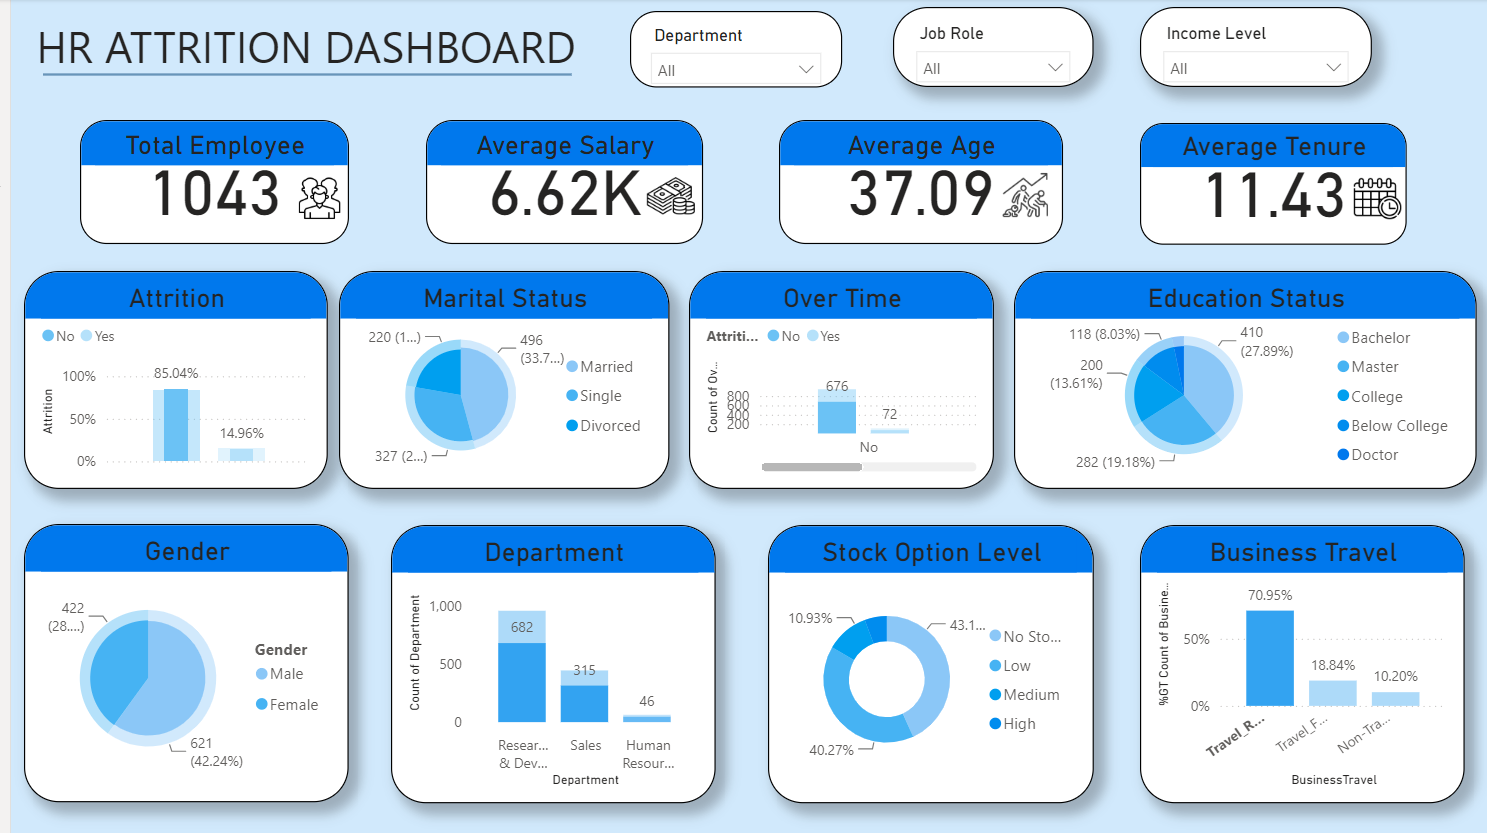

The dashboard page shown, as its layout file describes it:
{"tool":"powerbi","page":{"name":"Page 1","canvas":[1280,720],"ordinal":0},"visuals":[{"type":"clusteredColumnChart","title":"Attrition","fields":{"Series":["HR-Employee-Attrition.Attrition"],"Y":["CountNonNull(HR-Employee-Attrition.Attrition)"]},"box":[10.9,234.5,262,188.2],"z":0},{"type":"pieChart","title":"Gender","fields":{"Category":["HR-Employee-Attrition.Gender"],"Y":["CountNonNull(HR-Employee-Attrition.Gender)"]},"box":[10.9,452.7,280,240],"z":1000},{"type":"pieChart","title":"Marital Status","fields":{"Category":["HR-Employee-Attrition.MaritalStatus"],"Y":["CountNonNull(HR-Employee-Attrition.MaritalStatus)"]},"box":[283,235,285,188],"z":2000},{"type":"clusteredColumnChart","title":"Department","fields":{"Category":["HR-Employee-Attrition.Department"],"Y":["CountNonNull(HR-Employee-Attrition.Department)"]},"box":[328.2,453.6,280,240],"z":3000},{"type":"clusteredColumnChart","title":"Over Time","fields":{"Category":["HR-Employee-Attrition.OverTime"],"Series":["HR-Employee-Attrition.Attrition"],"Y":["CountNonNull(HR-Employee-Attrition.OverTime)"]},"box":[584.8,234.6,263.1,188],"z":4000},{"type":"donutChart","title":"Stock Option Level","fields":{"Category":["HR-Employee-Attrition.Stock Level"],"Y":["CountNonNull(HR-Employee-Attrition.Stock Level)"]},"box":[652.7,453.6,280.9,240],"z":5000},{"type":"pieChart","title":"Education Status","fields":{"Category":["HR-Employee-Attrition.Education Status"],"Y":["CountNonNull(HR-Employee-Attrition.Education Status)"]},"box":[865.5,234.5,399.1,188.2],"z":6000},{"type":"clusteredColumnChart","title":"Business Travel","fields":{"Category":["HR-Employee-Attrition.BusinessTravel"],"Y":["CountNonNull(HR-Employee-Attrition.BusinessTravel)"]},"box":[973.6,453.6,280,240],"z":7000},{"type":"card","title":"Total Employee","fields":{"Values":["CountNonNull(HR-Employee-Attrition.Age)"]},"box":[59.1,104.5,231.8,107.3],"z":8000},{"type":"card","title":"Average Salary","fields":{"Values":["Avg(HR-Employee-Attrition.MonthlyIncome)"]},"box":[358.2,104.5,239.1,107.3],"z":9000},{"type":"card","title":"Average Age","fields":{"Values":["Avg(HR-Employee-Attrition.Age)"]},"box":[662.7,104.5,244.5,107.3],"z":10000},{"type":"textbox","box":[0,10,509.1,85.5],"z":11000},{"type":"card","title":"Average Tenure","fields":{"Values":["Avg(HR-Employee-Attrition.TotalWorkingYears)"]},"box":[973.6,107.3,230,104.5],"z":12000},{"type":"slicer","fields":{"Values":["HR-Employee-Attrition.Department"]},"box":[534,10,183,66],"z":13000},{"type":"slicer","fields":{"Values":["HR-Employee-Attrition.JobRole"]},"box":[761,7,173,69],"z":14000},{"type":"slicer","fields":{"Values":["HR-Employee-Attrition.Income Level"]},"box":[974,7,200,69],"z":15000},{"type":"shape","box":[27.6,0,456.3,130.2],"z":16000},{"type":"image","box":[240.6,148.4,50.9,47.4],"z":17000},{"type":"image","box":[541.7,143.2,55.2,52.6],"z":18000},{"type":"image","box":[847.9,143.2,53.5,51.8],"z":19000},{"type":"image","box":[1153.2,146.6,50.9,50.9],"z":20000}]}

Visuals, with their boxes in screenshot pixels (x1, y1, x2, y2), scaled from the page's 1280x720 canvas onto the 1487x833 screenshot:
"Attrition" clusteredColumnChart: box(13, 271, 317, 489)
"Gender" pieChart: box(13, 524, 338, 801)
"Marital Status" pieChart: box(329, 272, 660, 489)
"Department" clusteredColumnChart: box(381, 525, 707, 802)
"Over Time" clusteredColumnChart: box(679, 271, 985, 489)
"Stock Option Level" donutChart: box(758, 525, 1085, 802)
"Education Status" pieChart: box(1005, 271, 1469, 489)
"Business Travel" clusteredColumnChart: box(1131, 525, 1456, 802)
"Total Employee" card: box(69, 121, 338, 245)
"Average Salary" card: box(416, 121, 694, 245)
"Average Age" card: box(770, 121, 1054, 245)
textbox: box(0, 12, 591, 110)
"Average Tenure" card: box(1131, 124, 1398, 245)
slicer - HR-Employee-Attrition.Department: box(620, 12, 833, 88)
slicer - HR-Employee-Attrition.JobRole: box(884, 8, 1085, 88)
slicer - HR-Employee-Attrition.Income Level: box(1132, 8, 1364, 88)
shape: box(32, 0, 562, 151)
image: box(280, 172, 339, 227)
image: box(629, 166, 693, 227)
image: box(985, 166, 1047, 226)
image: box(1340, 170, 1399, 228)
